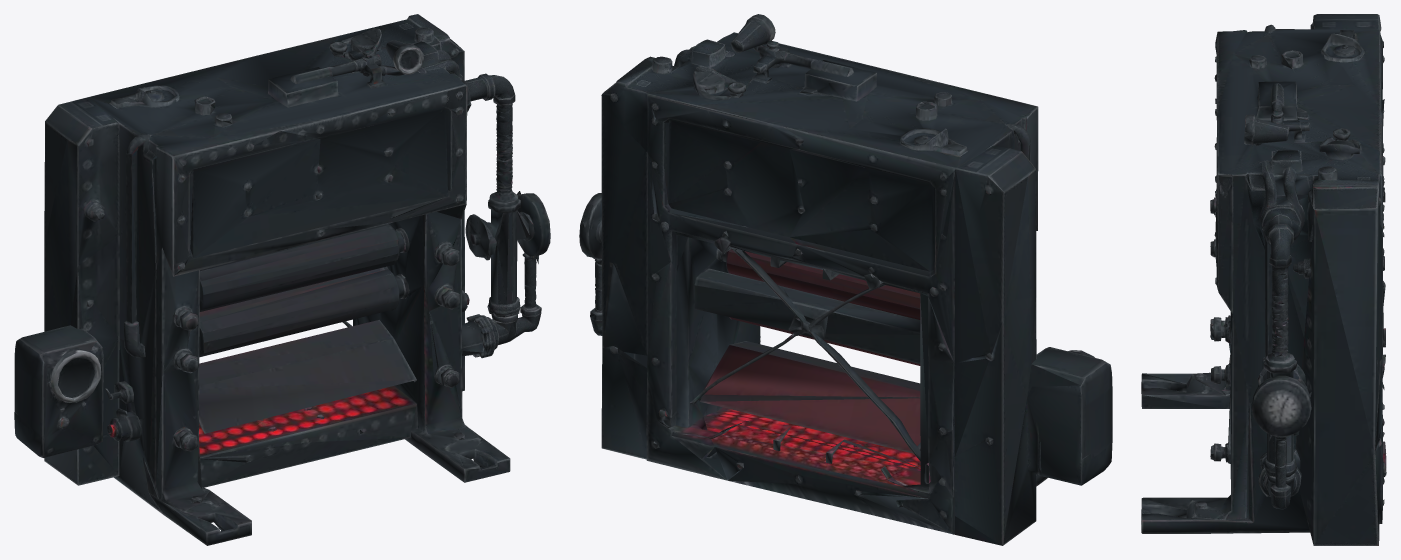
Rendered from reforger.glb.
3 renders of one model, left to right at view 1: azimuth 30°, elevation 25°; view 2: azimuth 150°, elevation 25°; view 3: azimuth 270°, elevation 25°, orthographic. The views are drawn at different scales.
Visible parts, largest first — view 1: reforger; view 2: reforger; view 3: reforger.
Part boxes in pixels (x1,y1,x2,y2): reforger: (14,14,550,545); reforger: (579,14,1112,545); reforger: (1141,14,1386,545).
Size of the model in its own units: 2.3 by 1.75 by 0.9836.
1 material, 1 textured.
